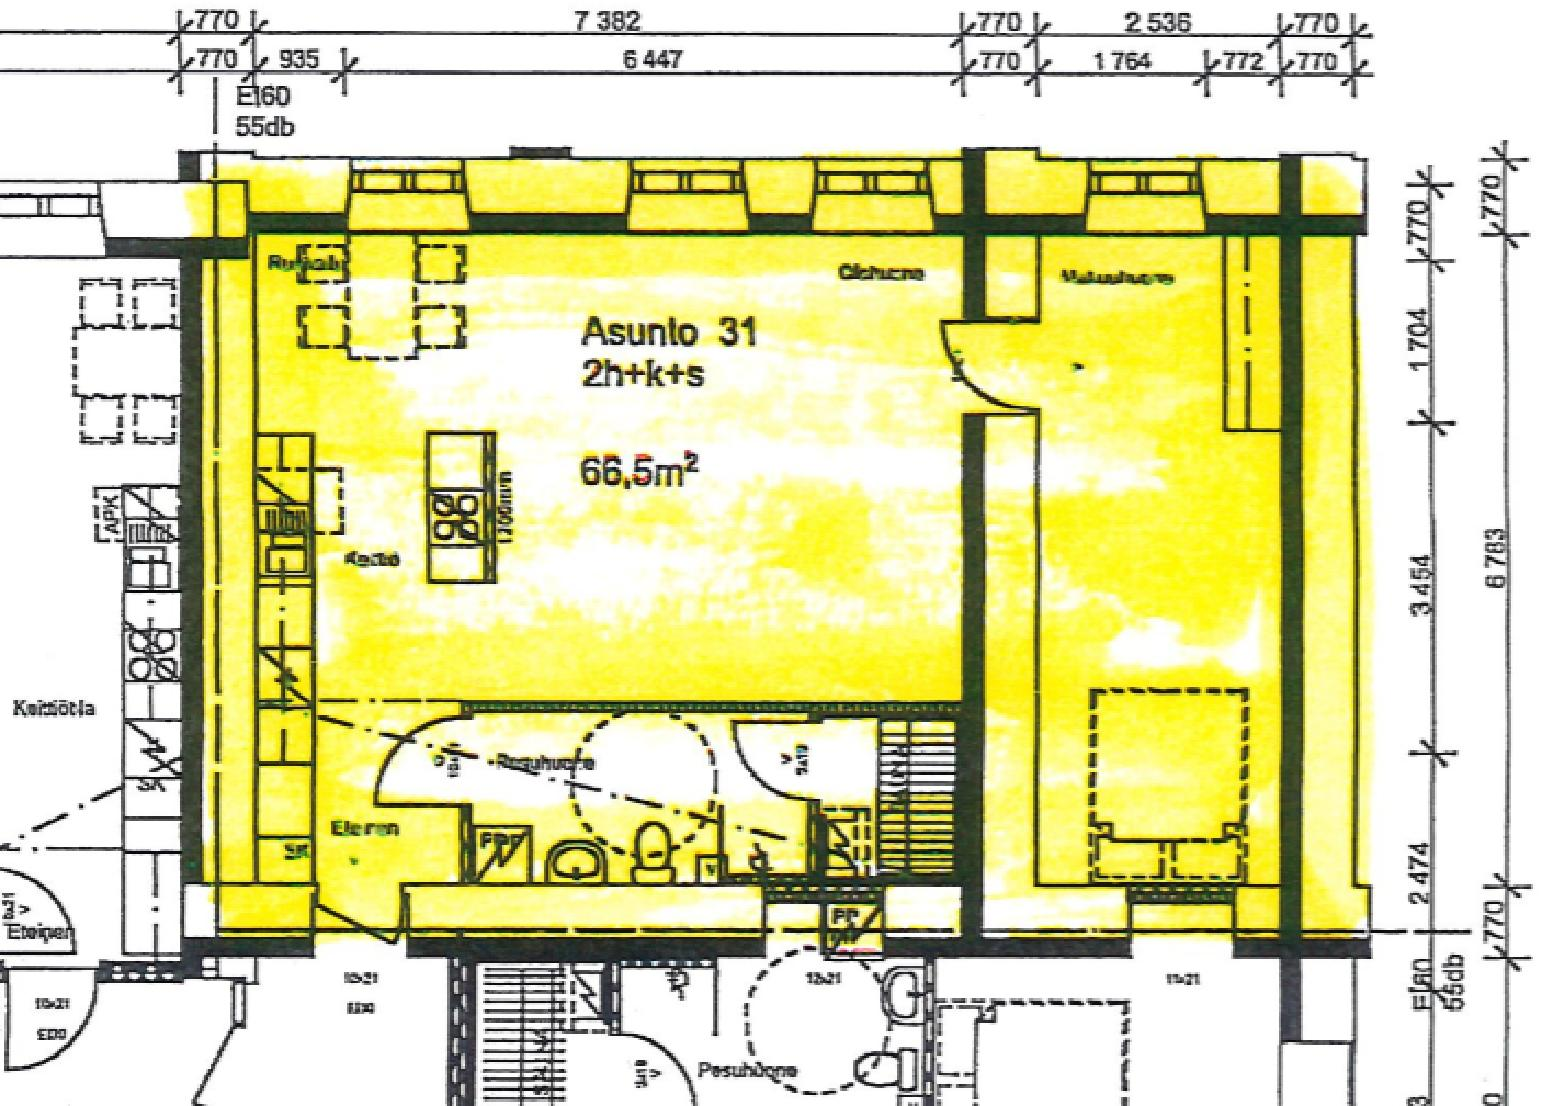door: (933, 315, 1046, 421), (6, 964, 104, 1066), (377, 704, 475, 803), (729, 716, 824, 801), (584, 1039, 704, 1106), (1, 865, 81, 958)
window: (352, 154, 461, 193), (1093, 174, 1207, 208), (635, 168, 740, 200), (819, 174, 922, 203)
zone: (259, 233, 960, 699), (998, 233, 1279, 940), (208, 695, 959, 937), (1, 247, 182, 954), (478, 948, 927, 1106), (940, 955, 1292, 1106)
